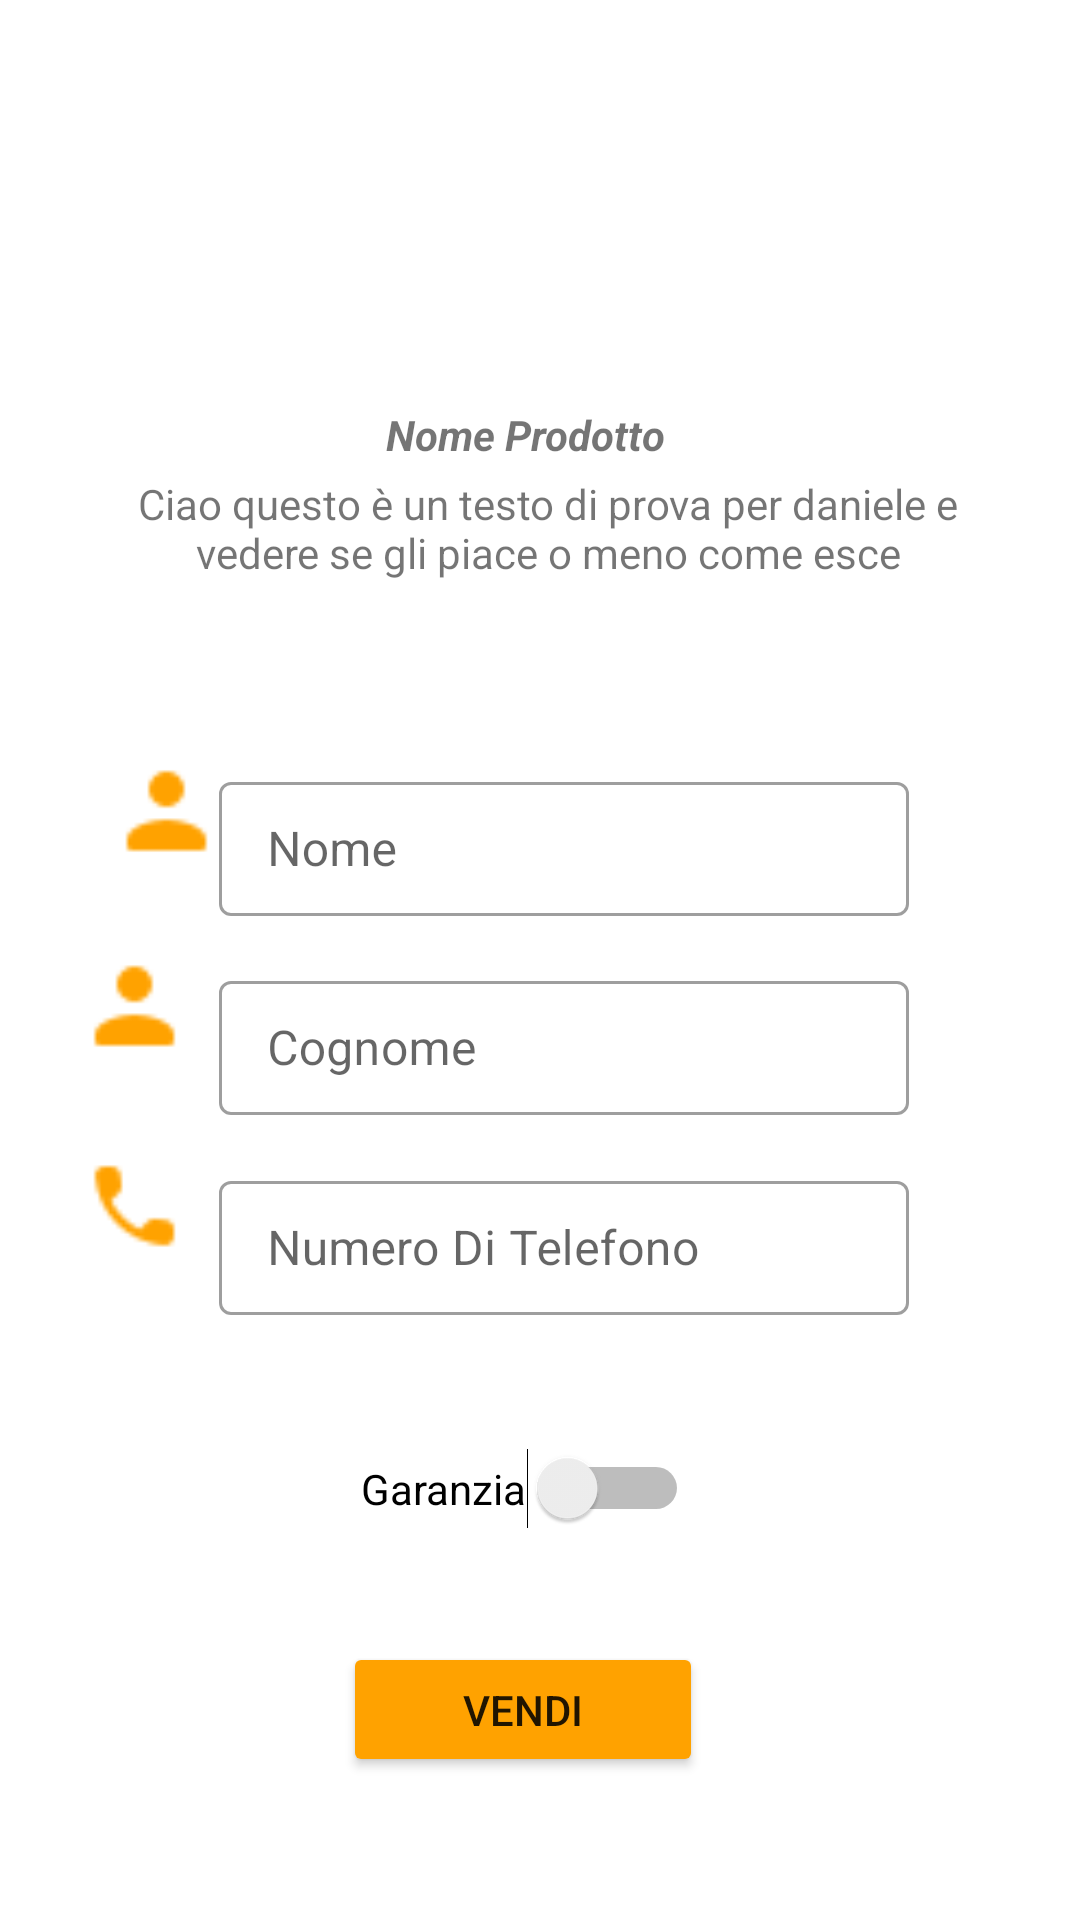

Locate icon controls on the screen. Image size 1080*1920, boxes as region(x1, y1, x2, y2).
icona utente: region(125, 770, 208, 852), region(93, 965, 176, 1047)
phone: region(93, 1165, 176, 1247)
